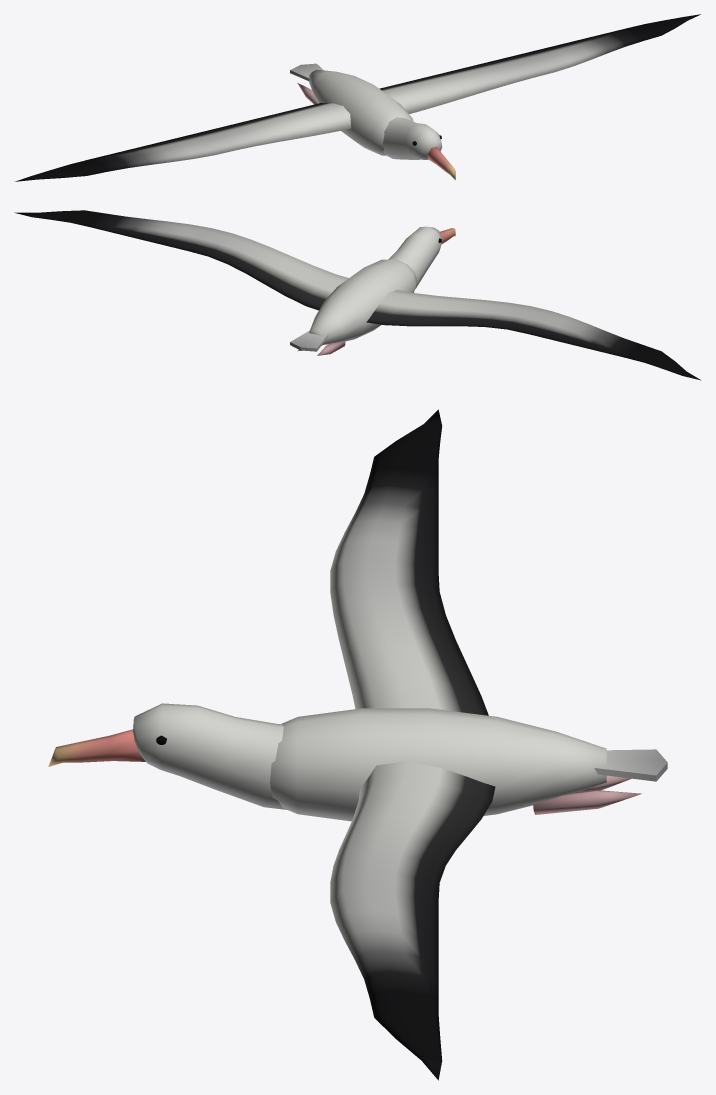
Rendered from WanderingAlbatross.fbx.
The picture shows the model from 3 angles, top to bottom: view 1: azimuth 30°, elevation 25°; view 2: azimuth 150°, elevation 25°; view 3: azimuth 270°, elevation 25°; orthographic projection. The views are drawn at different scales.
Parts seen in each view (by area): view 1: WanderingAlbatross; view 2: WanderingAlbatross; view 3: WanderingAlbatross.
Part boxes in pixels (x1=…): WanderingAlbatross: x1=14, y1=14, x2=700, y2=181; WanderingAlbatross: x1=14, y1=210, x2=701, y2=380; WanderingAlbatross: x1=48, y1=409, x2=667, y2=1080.
Size of the model in its own units: 3.5 by 0.2692 by 1.37.
